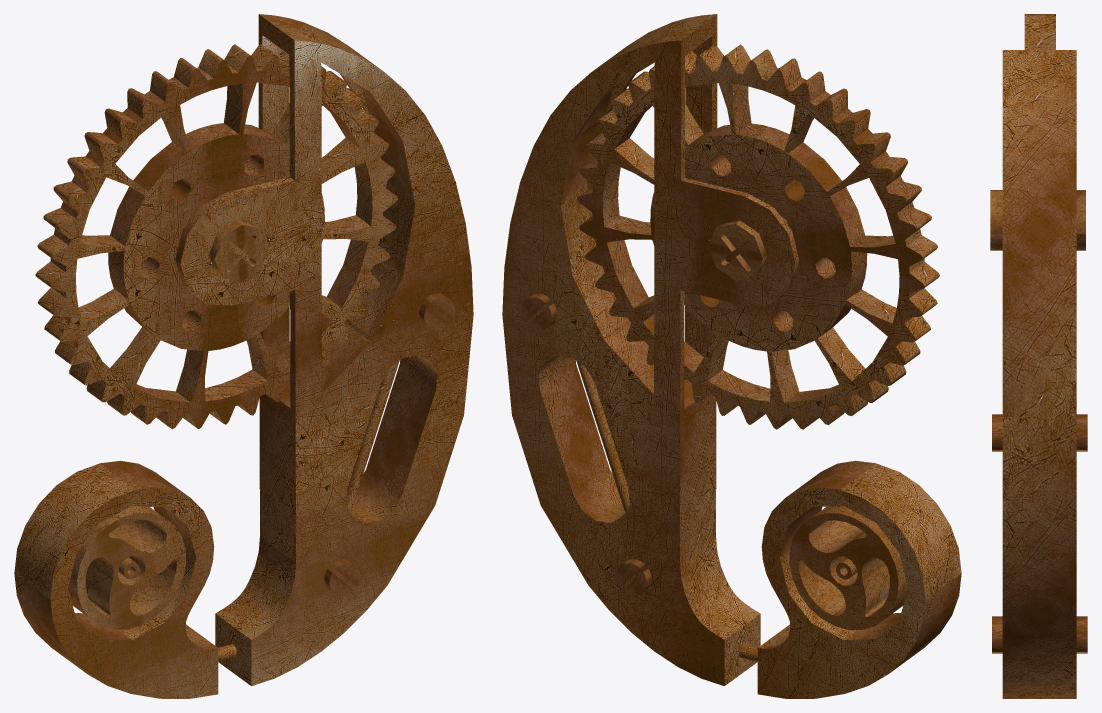
3 renders of one model, left to right at view 1: azimuth 30°, elevation 25°; view 2: azimuth 150°, elevation 25°; view 3: azimuth 270°, elevation 25°, orthographic. The views are drawn at different scales.
Visible parts, largest first — view 1: 039, Cogwheel_400, Cogwheel_244, Screw_764, Tube_644, Screw_769, Screw_761; view 2: 039, Cogwheel_400, Cogwheel_244, Screw_764, Tube_644, Screw_769, Screw_761; view 3: 039, Screw_764, Cogwheel_400, Screw_769, Screw_761.
Part boxes in pixels (x1,y1,x2,y2): 039: (14, 14, 473, 698); Cogwheel_400: (35, 44, 398, 429); Cogwheel_244: (68, 506, 186, 629); Screw_764: (188, 218, 268, 281); Tube_644: (346, 361, 399, 511); Screw_769: (324, 559, 360, 595); Screw_761: (419, 293, 455, 330); 039: (502, 14, 961, 698); Cogwheel_400: (577, 44, 939, 429); Cogwheel_244: (789, 506, 907, 629); Screw_764: (708, 216, 787, 280); Tube_644: (576, 361, 629, 511); Screw_769: (615, 559, 651, 595); Screw_761: (520, 293, 556, 330); 039: (1002, 50, 1076, 698); Screw_764: (990, 190, 1085, 250); Cogwheel_400: (1024, 14, 1055, 49); Screw_769: (992, 616, 1087, 653); Screw_761: (992, 414, 1087, 451).
Bounding box in the file's own units: 67.66 × 97.08 × 13.08.
1 material, 1 textured.
